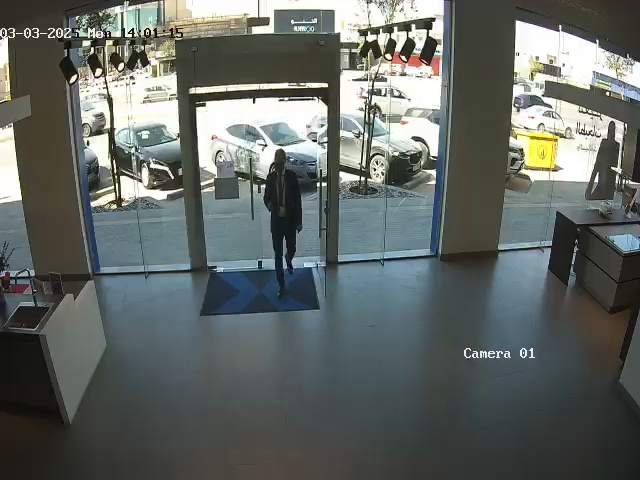employee: (263, 148, 303, 297)
